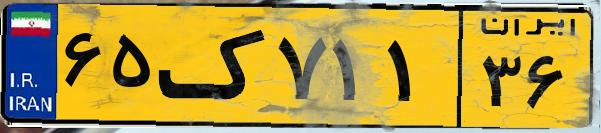1: (385, 28, 445, 110), (330, 28, 385, 110)
3: (475, 38, 525, 113)
5: (110, 28, 158, 98)
6: (57, 26, 110, 100), (525, 38, 570, 115)
7: (270, 28, 330, 110)
ک: (158, 12, 270, 120)
